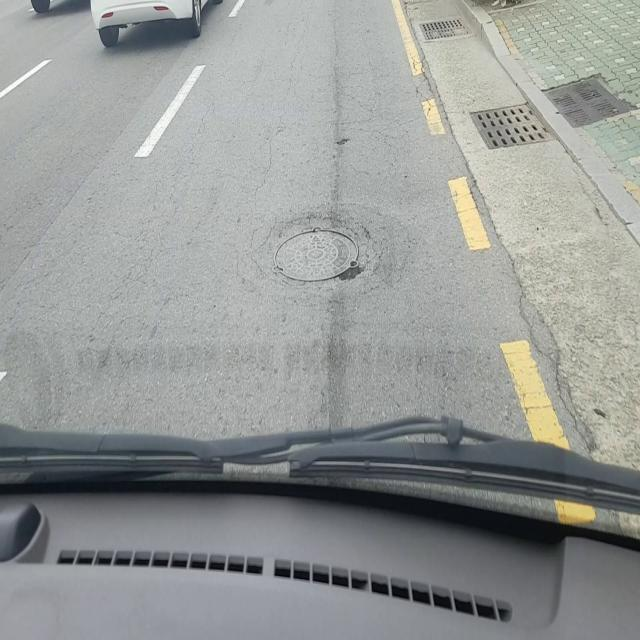Pothole: (268, 222, 368, 287)
